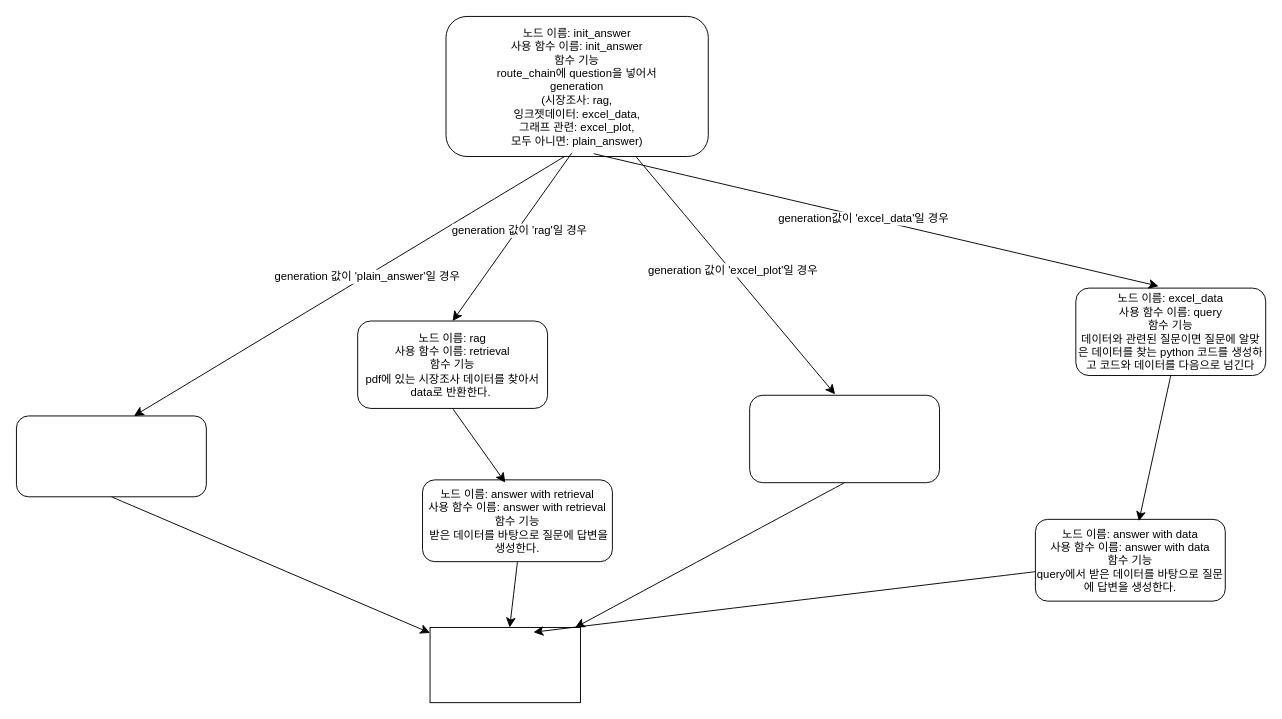
This 1282x719 diagram has some shape labels left out. Here are the shapes that lost their labels. From the top down, the centre of each, then its label:
(x=111, y=456): 노드 이름: plain_answer 사용 함수 이름: answer 함수 기능 데이터와 무관한 질문이 들어오면 llm으로 답변 생성
(x=844, y=438): 노드 이름: excel_plot 사용 함수 이름: plot_graph 함수 기능 데이터를 활용하여 그래프를 그리는 코드 생성 및 그래프 생성
(x=504, y=665): end
